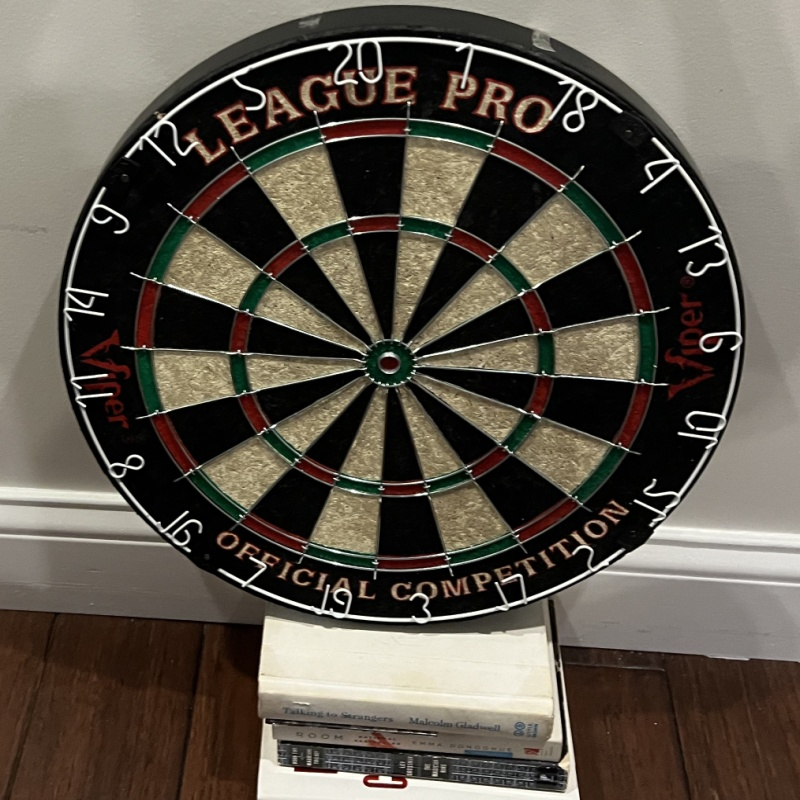eleven: (68, 371, 117, 410)
six: (696, 331, 748, 356)
three: (406, 592, 438, 625)
twenty: (326, 38, 385, 86)
